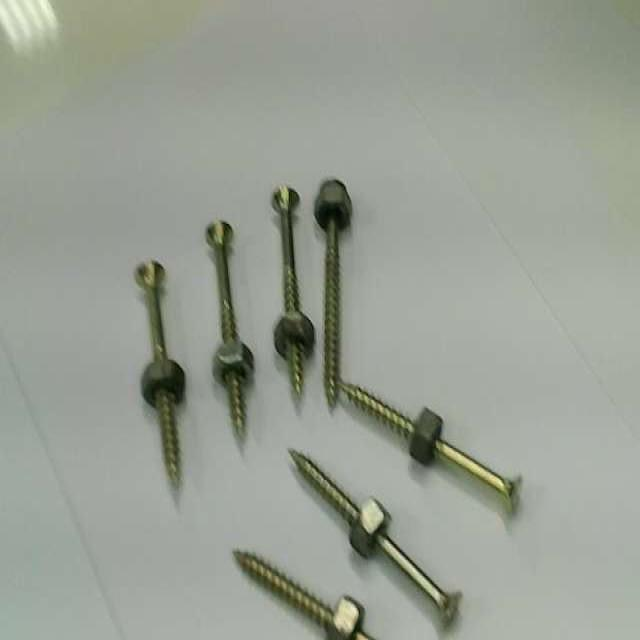Parafuso: (291, 451, 463, 632), (340, 384, 521, 515), (236, 549, 370, 636), (133, 260, 177, 483), (204, 223, 247, 439), (269, 188, 303, 388), (324, 184, 348, 410)
Porca: (351, 499, 388, 555), (141, 359, 184, 407), (274, 312, 314, 356), (410, 408, 441, 463), (328, 596, 363, 639)
